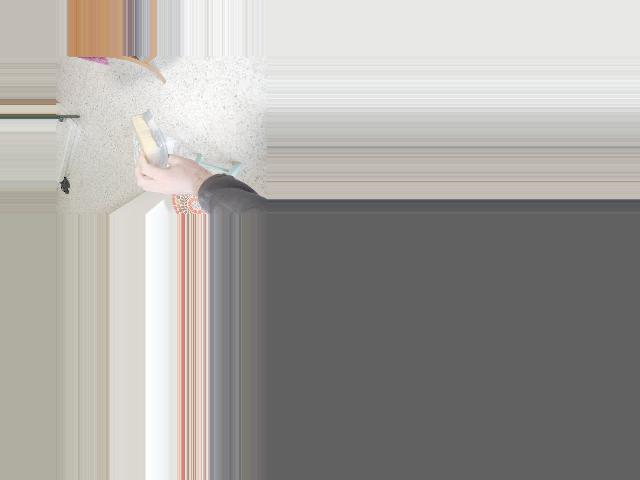cheese: (131, 105, 170, 193)
